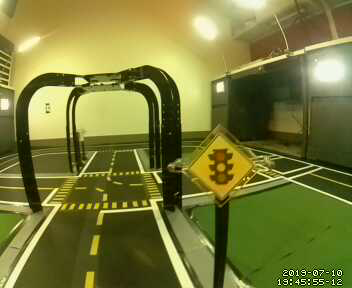Traffic light sign: (189, 136, 258, 199)
